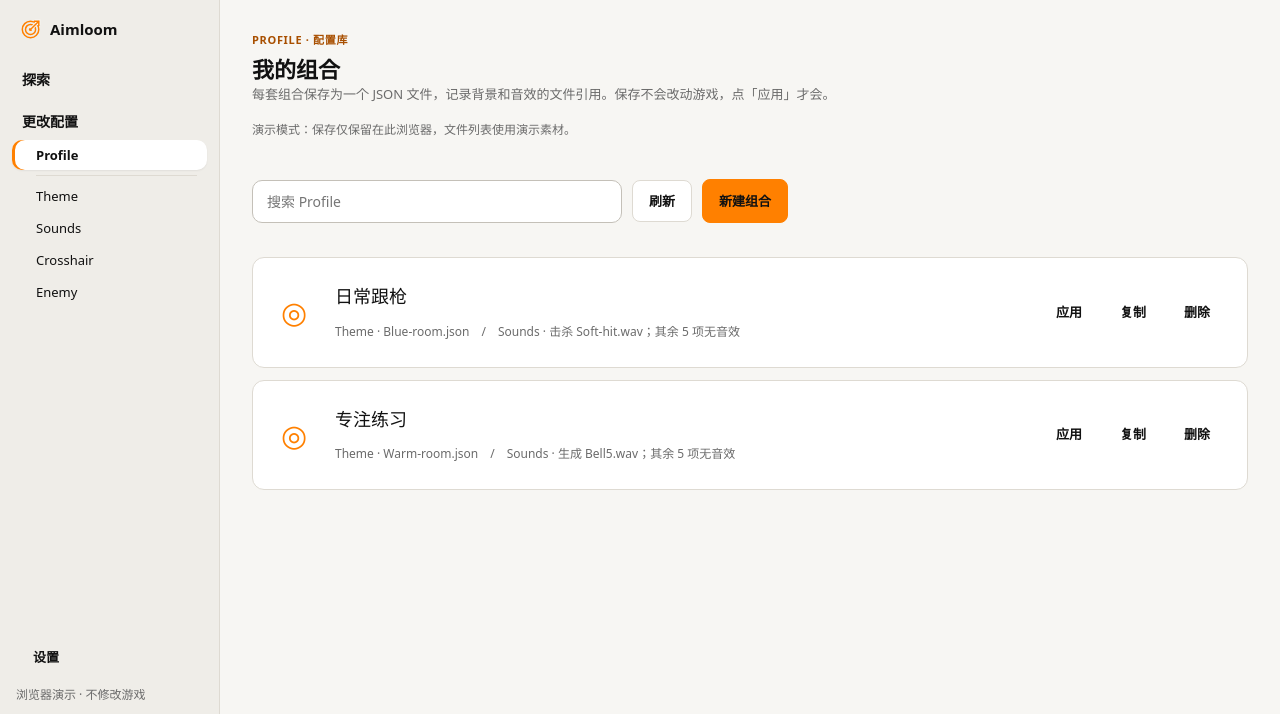
Test: a blocked window close › shows exactly one dialog while 备份与恢复 is open
What coordinates should you click on to do the following:
click the button "探索"
I would click on:
 (110, 79)
Its box is [12,62,207,96].
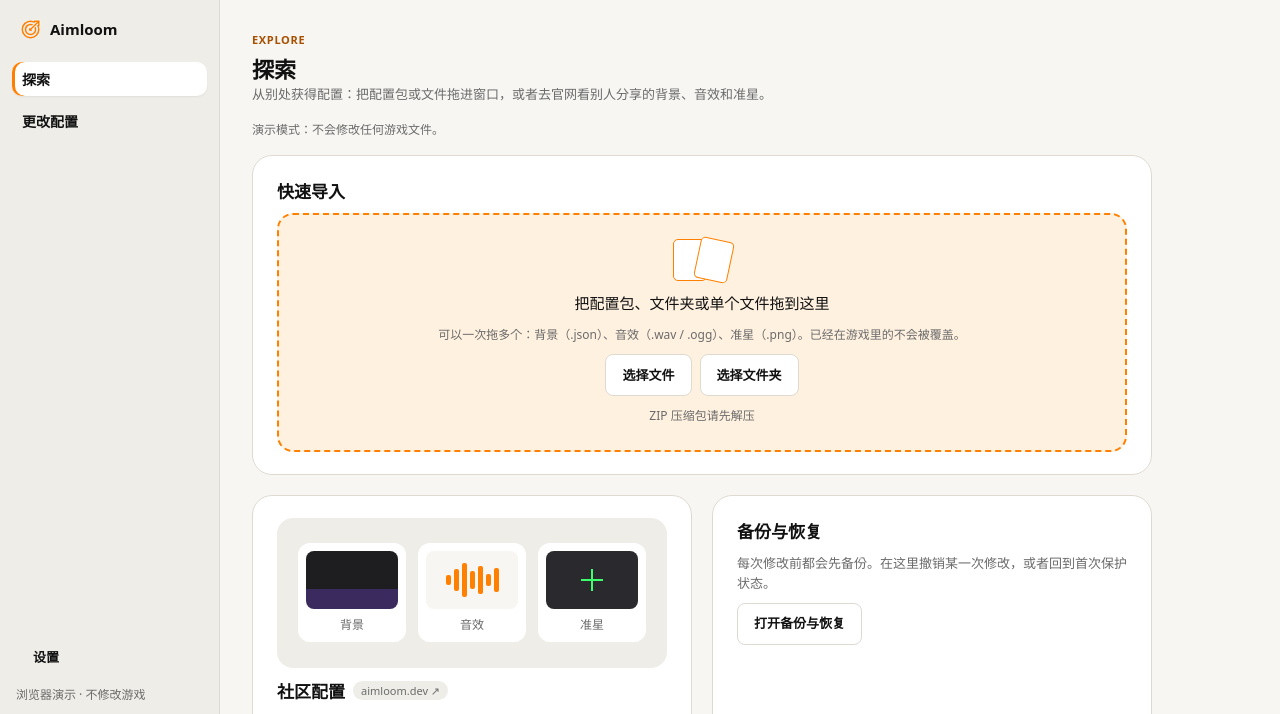
What coordinates should you click on to do the following:
click the button "打开备份与恢复"
I would click on:
 (800, 624)
Its box is [737,603,862,645].
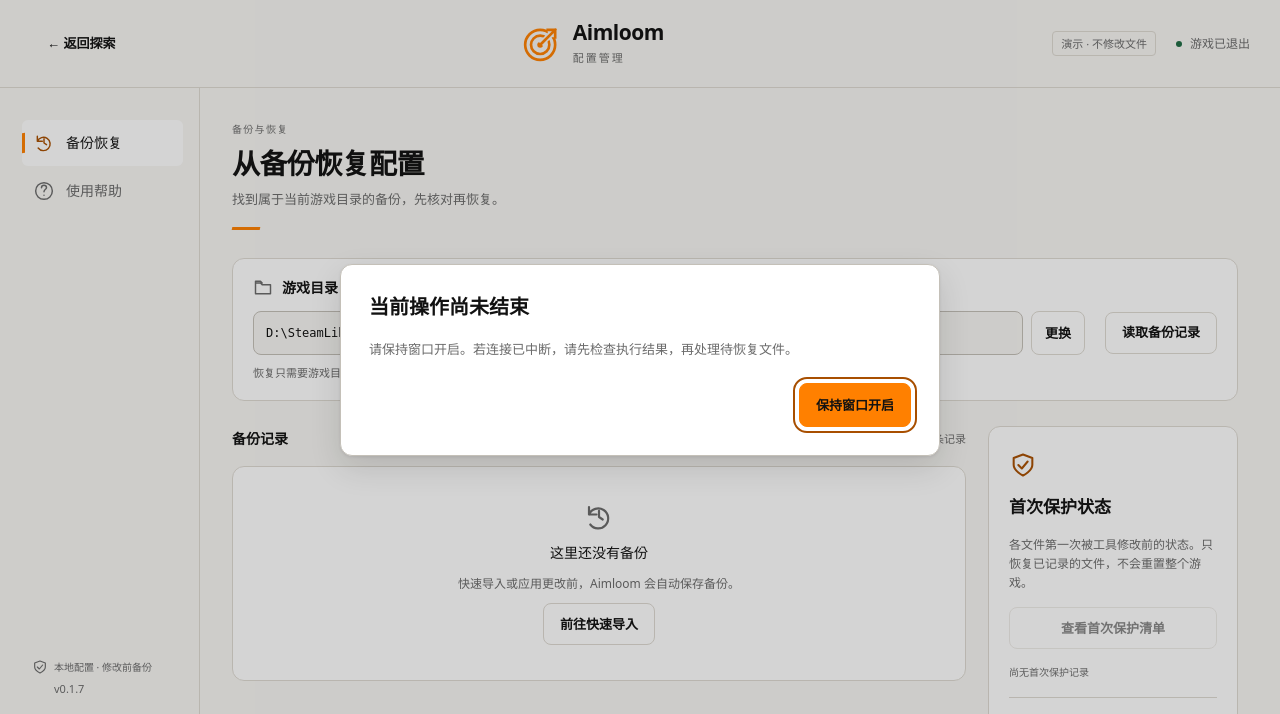
Check: the heading "从备份恢复配置" is shown, box [232,144,424,182]
Check: the number of dialogs is 1, box [340,264,940,456]
